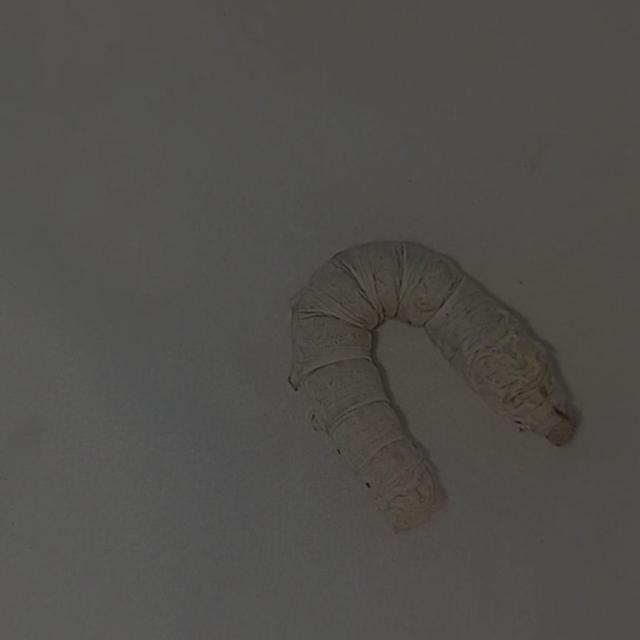Healthy: (268, 206, 588, 547)
